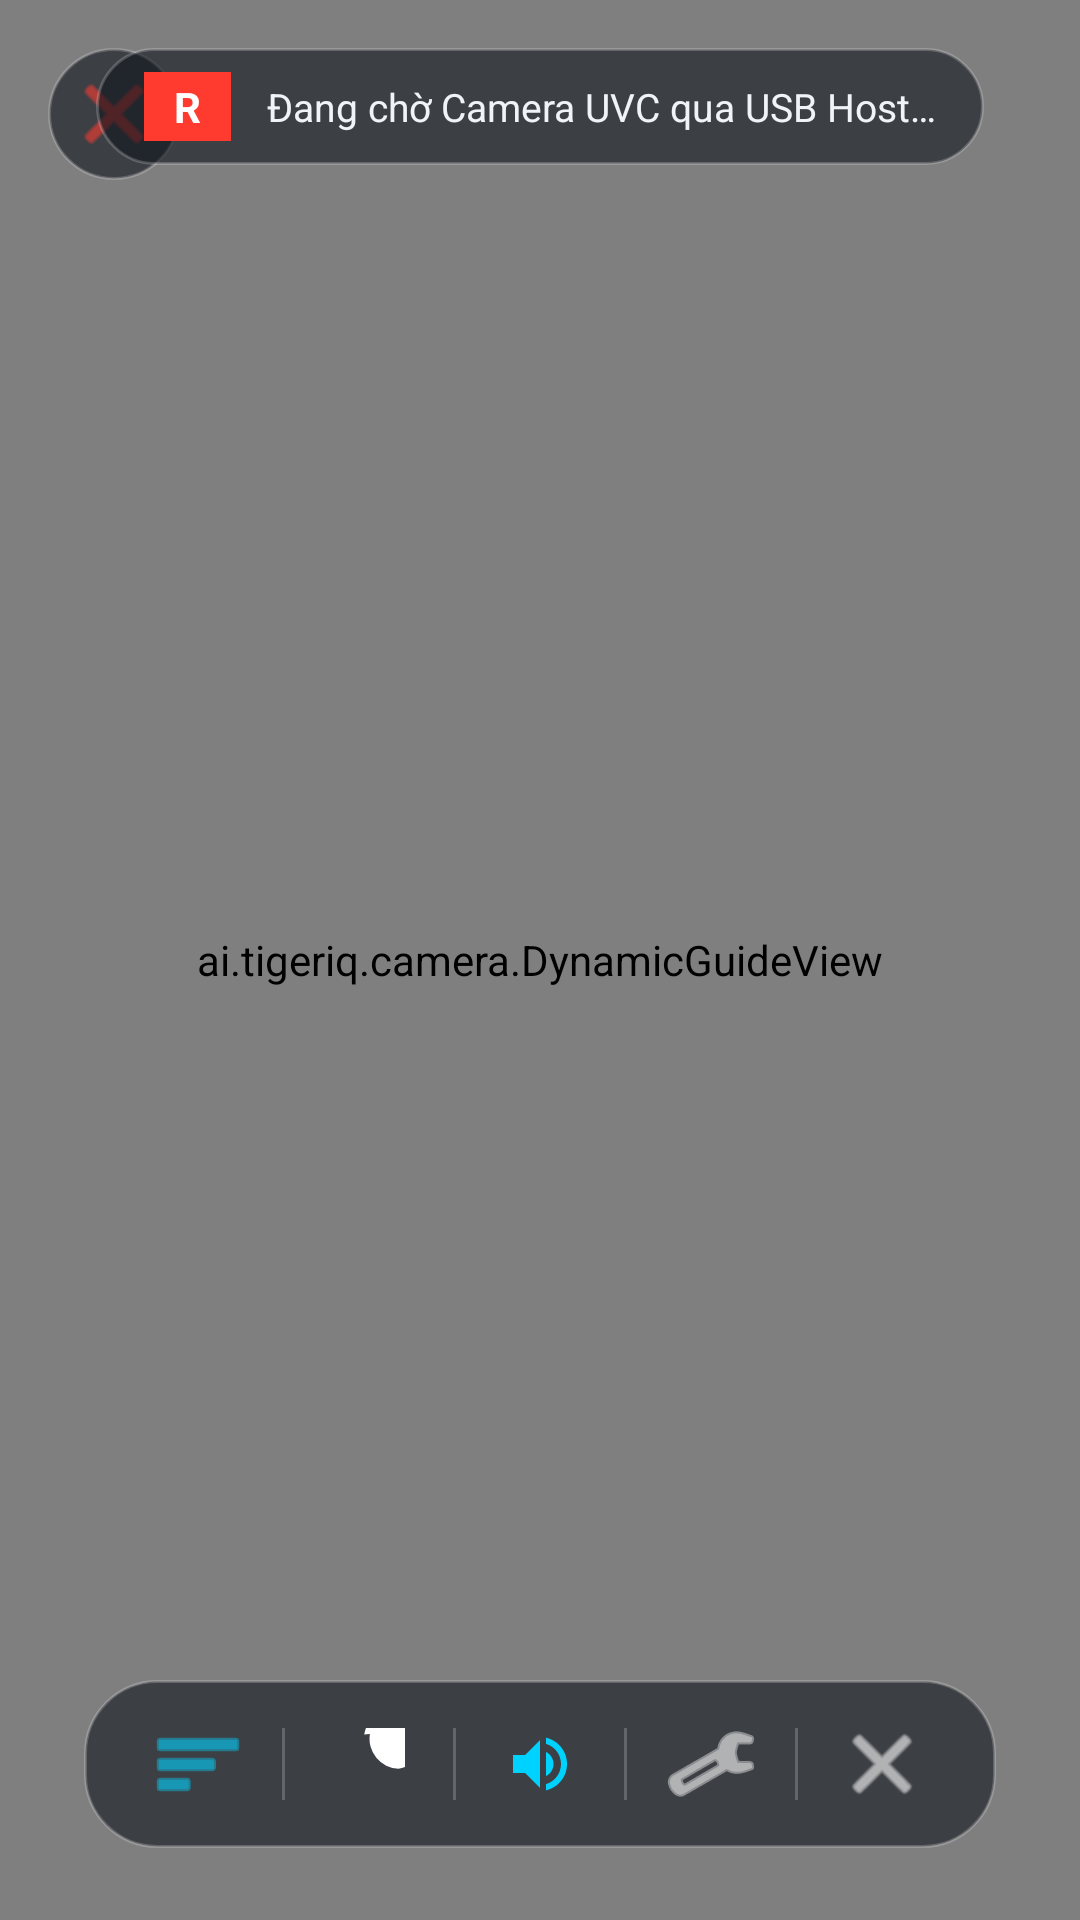

Icon click points for this 1080x1920 phone screenshot, format point (x, y):
Cài đặt Camera: point (711, 1764)
Âm thanh hỗ trợ đỗ xe: point (540, 1764)
Đóng Camera: point (882, 1764)
Đổi kiểu vạch căn lùi: point (198, 1764)
